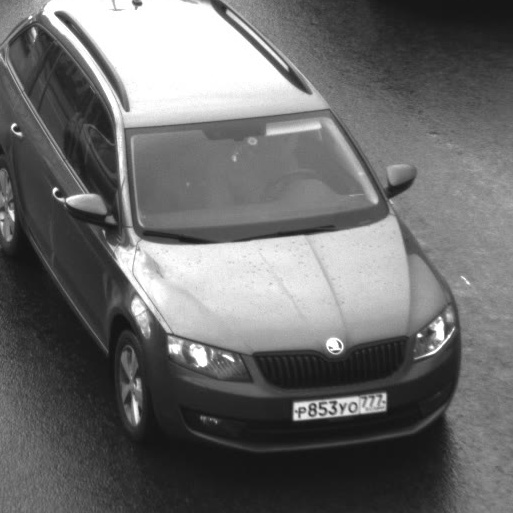plate: (280, 380, 395, 427)
